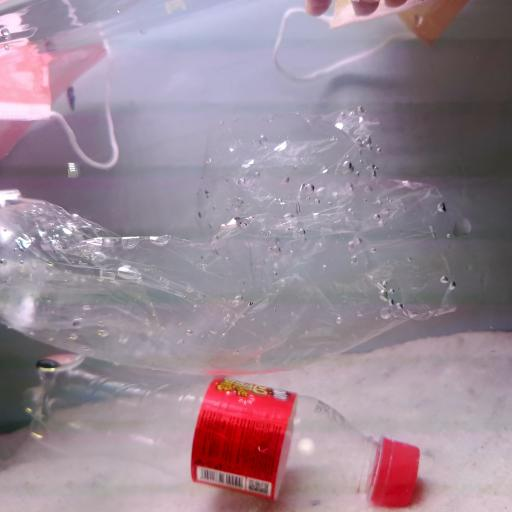bottle_cap: (368, 436, 424, 509)
mask: (0, 34, 134, 188), (264, 0, 482, 76)
plastic_bag: (0, 116, 489, 383)
plastic_bottle: (18, 359, 436, 512)
